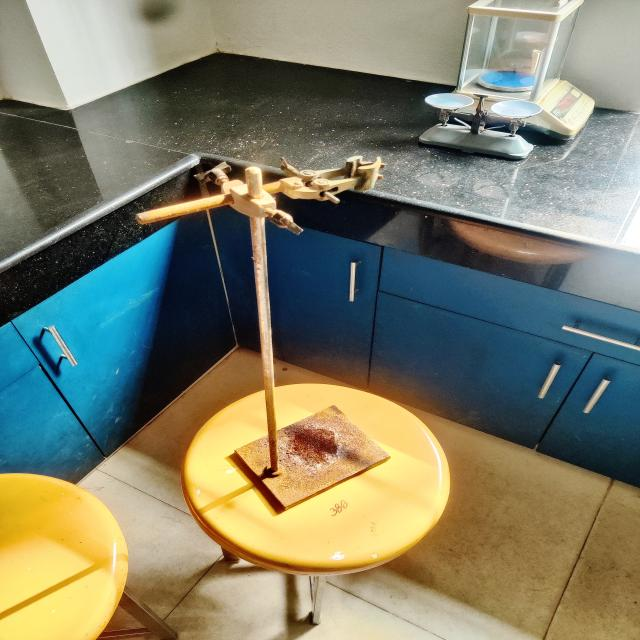Burette_Stands: (103, 139, 440, 536)
